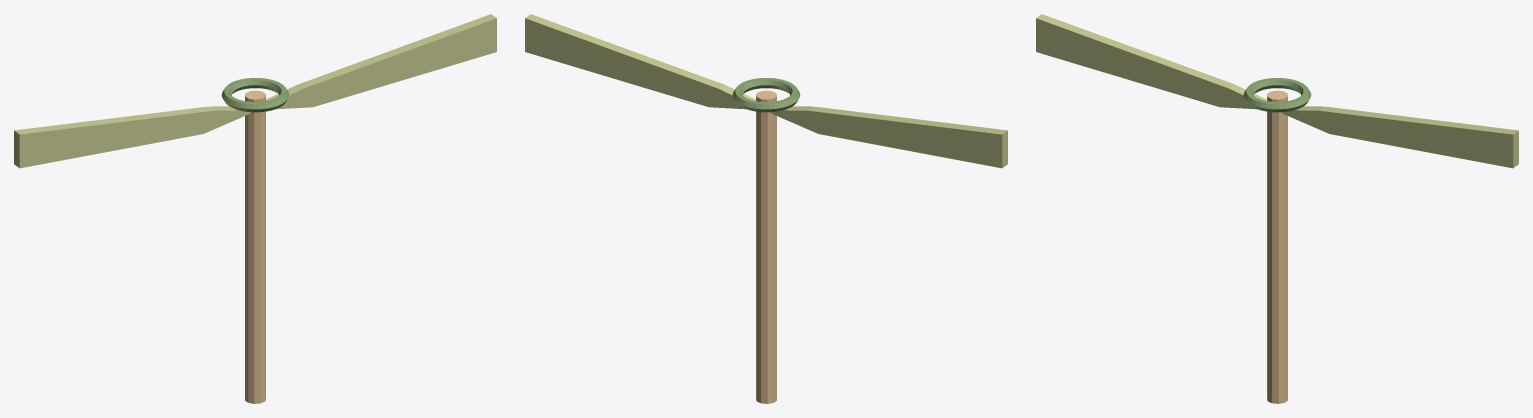
The model's file is bamboo_take_tombo.glb.
The picture shows the model from 3 angles, left to right: view 1: azimuth 30°, elevation 25°; view 2: azimuth 150°, elevation 25°; view 3: azimuth 330°, elevation 25°; orthographic projection.
Visible parts, largest first — view 1: Bamboo helicopter tapered wing-1, Bamboo helicopter tapered wing1, Dragonfly shaft, Center rotor binding; view 2: Bamboo helicopter tapered wing-1, Bamboo helicopter tapered wing1, Dragonfly shaft, Center rotor binding; view 3: Bamboo helicopter tapered wing1, Bamboo helicopter tapered wing-1, Dragonfly shaft, Center rotor binding.
Part boxes in pixels (x1,y1,x2,y2): Bamboo helicopter tapered wing-1: (14,106,250,168); Bamboo helicopter tapered wing1: (266,14,496,109); Dragonfly shaft: (245,90,265,403); Center rotor binding: (221,78,289,112); Bamboo helicopter tapered wing-1: (771,106,1007,168); Bamboo helicopter tapered wing1: (525,14,755,109); Dragonfly shaft: (756,90,776,403); Center rotor binding: (732,78,800,112); Bamboo helicopter tapered wing1: (1282,106,1518,168); Bamboo helicopter tapered wing-1: (1036,14,1266,109); Dragonfly shaft: (1267,90,1287,403); Center rotor binding: (1243,78,1311,112).
Size of the model in its own units: 1.95 by 1.27 by 0.2397.
